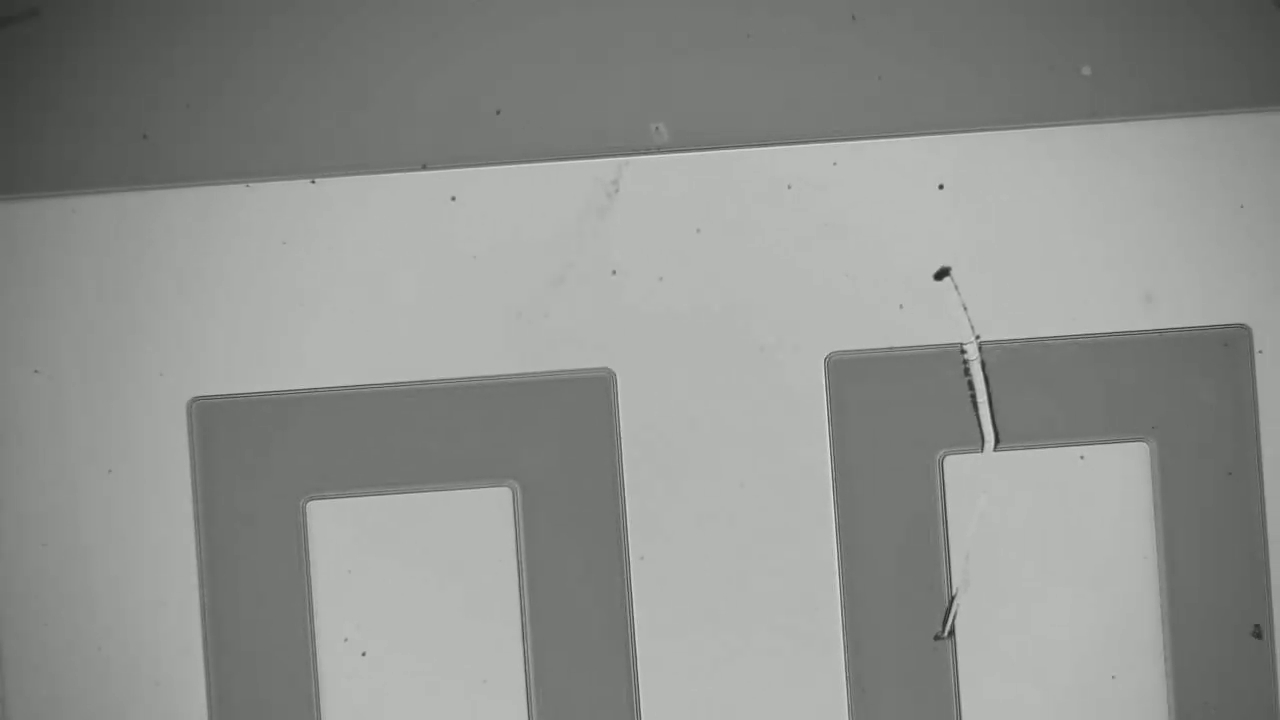Short_circuit: (944, 305, 1029, 471)
